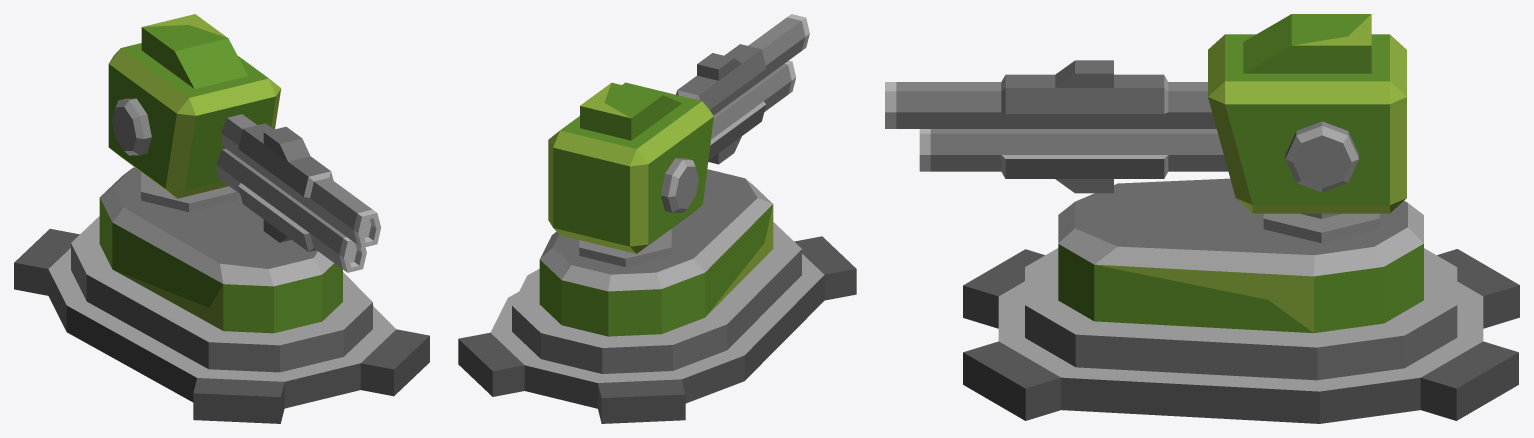
The model's file is tower_lethal_green_2.fbx.
3 renders of one model, left to right at view 1: azimuth 30°, elevation 25°; view 2: azimuth 150°, elevation 25°; view 3: azimuth 270°, elevation 25°, orthographic. The views are drawn at different scales.
Visible parts, largest first — view 1: tower_lethal_green_2, top_lethal_green_2; view 2: tower_lethal_green_2, top_lethal_green_2; view 3: tower_lethal_green_2, top_lethal_green_2.
Part boxes in pixels (left/top/right/bottom): tower_lethal_green_2: left=14, top=167, right=429, bottom=423; top_lethal_green_2: left=108, top=14, right=381, bottom=272; tower_lethal_green_2: left=458, top=169, right=856, bottom=423; top_lethal_green_2: left=548, top=14, right=809, bottom=266; tower_lethal_green_2: left=963, top=178, right=1519, bottom=423; top_lethal_green_2: left=885, top=14, right=1406, bottom=243.
Size of the model in its own units: 124 by 128 by 229.
